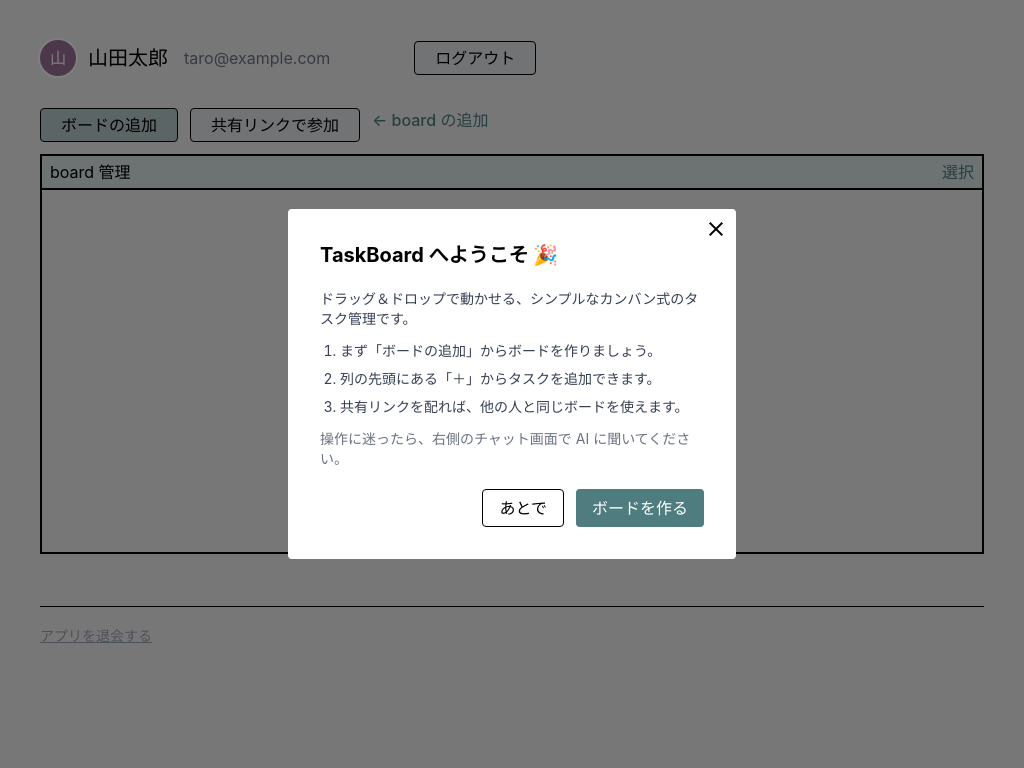
HomePage（起動時ウェルカム） › 「あとで」で閉じる
Click the button "あとで": x=523, y=508 left=482, top=489, right=564, bottom=527
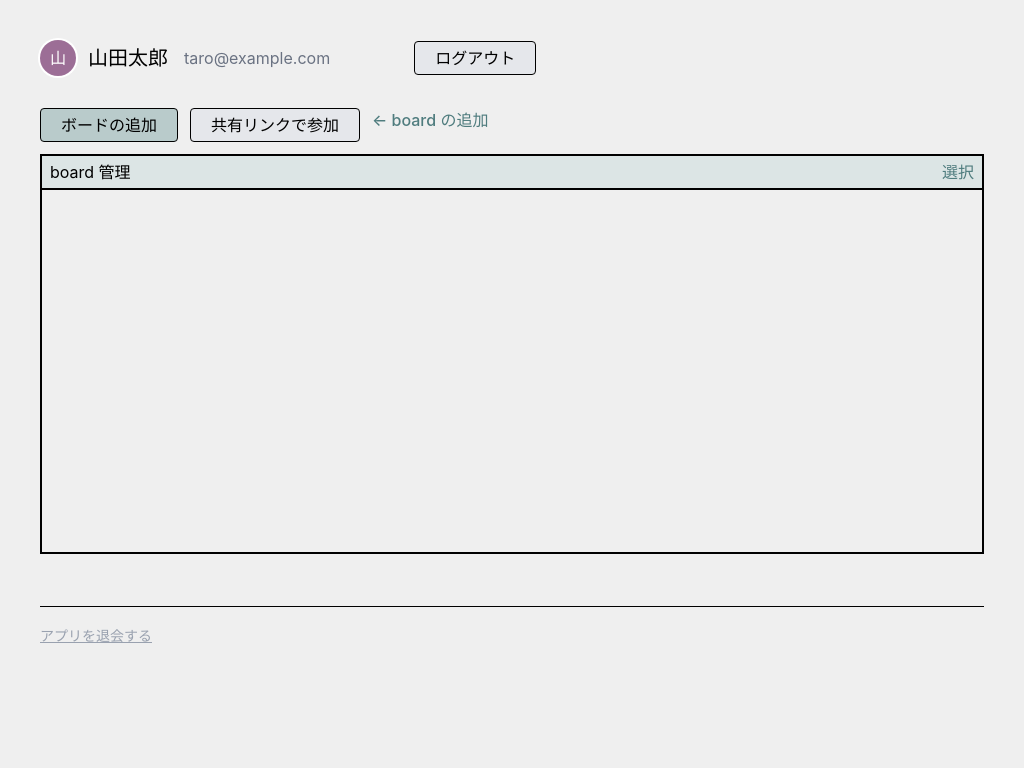
Expected: the text "TaskBoard へようこそ 🎉" is gone
